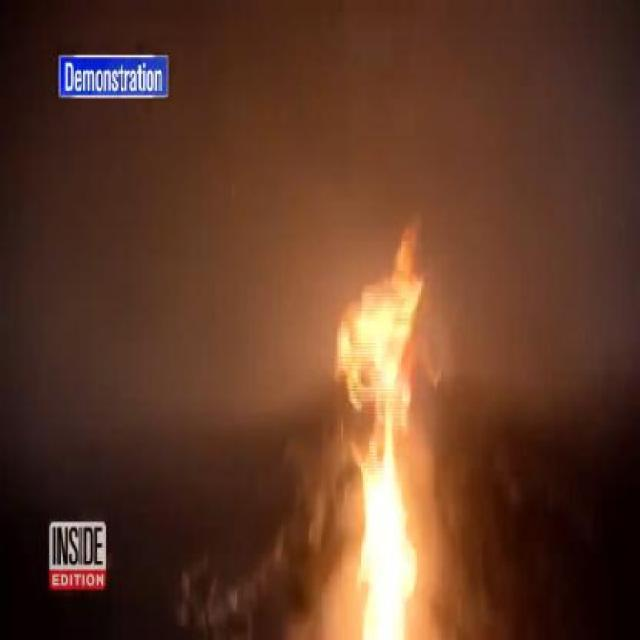Fire: (128, 197, 532, 640)
Smoke: (0, 11, 337, 462), (451, 0, 640, 480)
